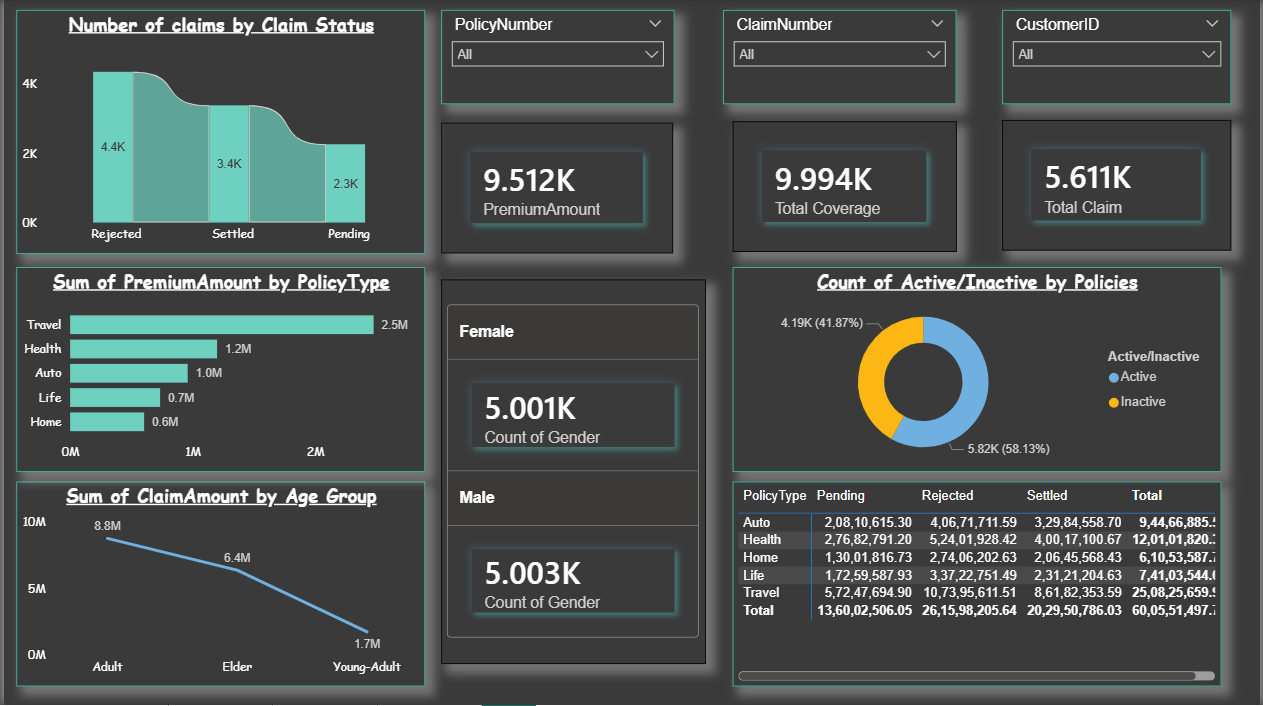

This screenshot's page, from the dashboard's own definition file:
{"tool":"powerbi","page":{"name":"Page 1","canvas":[1280,720],"ordinal":0},"visuals":[{"type":"slicer","fields":{"Values":["InsuranceData.PolicyNumber"]},"box":[445.6,11,237.9,96.3],"z":0},{"type":"slicer","fields":{"Values":["InsuranceData.ClaimNumber"]},"box":[733,11,237.9,96.3],"z":1000},{"type":"slicer","fields":{"Values":["InsuranceData.CustomerID"]},"box":[1017.7,11,233.8,96.3],"z":2000},{"type":"cardVisual","fields":{"Data":["Count(InsuranceData.PremiumAmount)"]},"box":[445.6,126.5,236.5,133.4],"z":3000},{"type":"cardVisual","fields":{"Data":["Count(InsuranceData.ClaimAmount)"]},"box":[1017.7,123.8,233.8,133.4],"z":4000},{"type":"cardVisual","fields":{"Data":["Count(InsuranceData.CoverageAmount)"]},"box":[742.6,125.2,228.3,133.4],"z":5000},{"type":"ribbonChart","title":"Number of claims by Claim Status","fields":{"Category":["InsuranceData.ClaimStatus"],"Y":["CountNonNull(InsuranceData.ClaimStatus)"]},"box":[12.4,11,416.7,248.9],"z":6000},{"type":"lineChart","fields":{"Category":["InsuranceData.Age Group"],"Y":["Sum(InsuranceData.ClaimAmount)"]},"box":[12.4,492.3,416.7,209],"z":7000},{"type":"barChart","fields":{"Category":["InsuranceData.PolicyType"],"Y":["Sum(InsuranceData.PremiumAmount)"]},"box":[12.4,273.7,416.7,209],"z":8000},{"type":"donutChart","title":"Count of Active/Inactive by Policies","fields":{"Category":["InsuranceData.Active/Inactive"],"Y":["CountNonNull(InsuranceData.Active/Inactive)"]},"box":[742.6,273.7,497.8,209],"z":9000},{"type":"pivotTable","fields":{"Rows":["InsuranceData.PolicyType"],"Columns":["InsuranceData.ClaimStatus"],"Values":["Sum(InsuranceData.CoverageAmount)"]},"box":[742.6,492.3,497.8,209],"z":10000},{"type":"cardVisual","fields":{"Rows":["InsuranceData.Gender"],"Data":["CountNonNull(InsuranceData.Gender)"]},"box":[445.6,286.1,269.6,392],"z":11000}]}

Visuals, with their boxes in screenshot pixels (x1, y1, x2, y2), scaled from the page's 1280x720 canvas onto the 1263x706 screenshot:
slicer - InsuranceData.PolicyNumber: (440,11,674,105)
slicer - InsuranceData.ClaimNumber: (723,11,958,105)
slicer - InsuranceData.CustomerID: (1004,11,1235,105)
cardVisual - Count(InsuranceData.PremiumAmount): (440,124,673,255)
cardVisual - Count(InsuranceData.ClaimAmount): (1004,121,1235,252)
cardVisual - Count(InsuranceData.CoverageAmount): (733,123,958,254)
"Number of claims by Claim Status" ribbonChart: (12,11,423,255)
lineChart - InsuranceData.Age Group x Sum(InsuranceData.ClaimAmount): (12,483,423,688)
barChart - InsuranceData.PolicyType x Sum(InsuranceData.PremiumAmount): (12,268,423,473)
"Count of Active/Inactive by Policies" donutChart: (733,268,1224,473)
pivotTable - InsuranceData.PolicyType x InsuranceData.ClaimStatus: (733,483,1224,688)
cardVisual - InsuranceData.Gender x CountNonNull(InsuranceData.Gender): (440,281,706,665)
